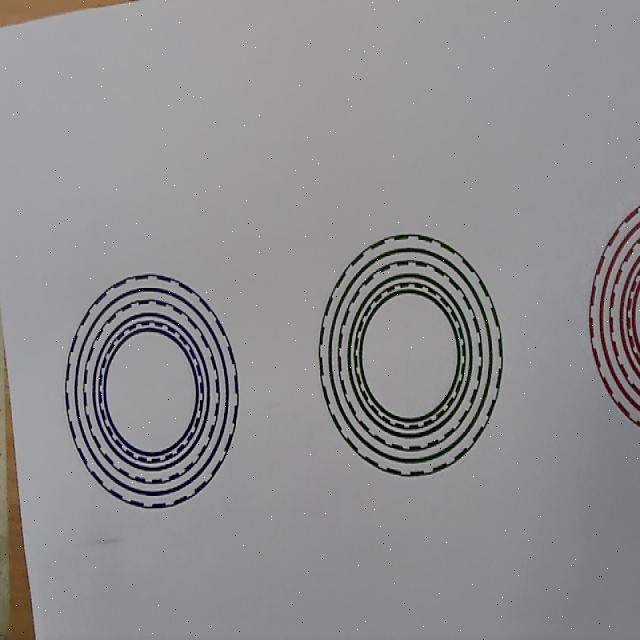b: (65, 274, 238, 510)
g: (319, 233, 503, 477)
